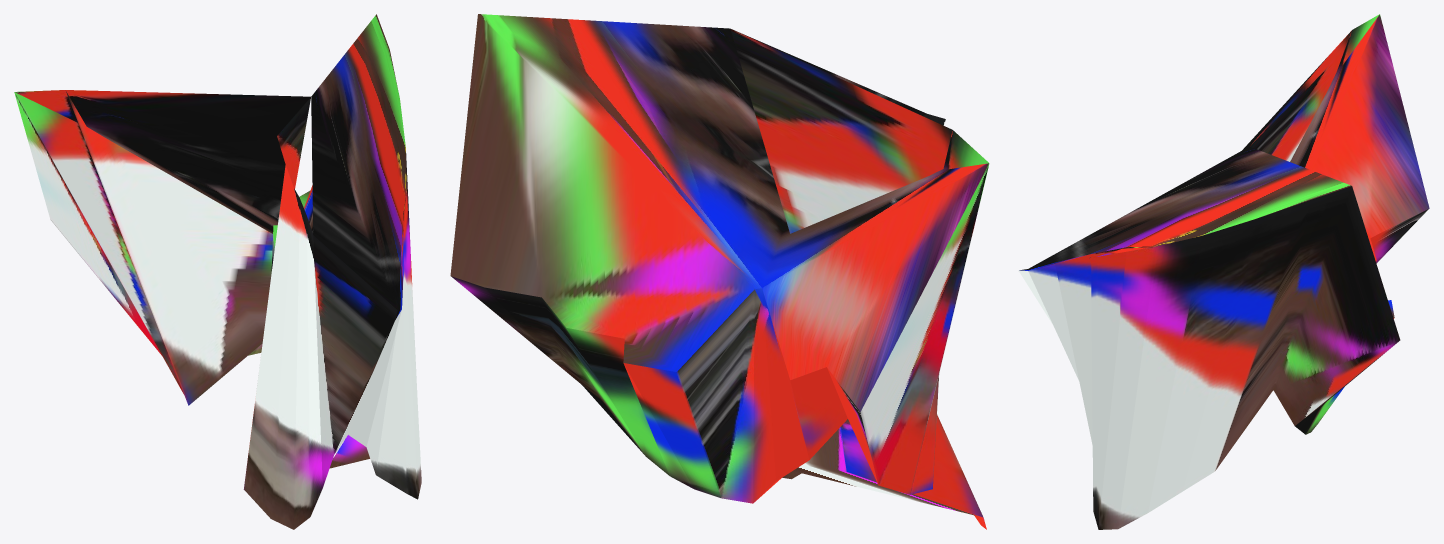
The model's file is otherneg3.glb.
The picture shows the model from 3 angles, left to right: view 1: azimuth 30°, elevation 25°; view 2: azimuth 150°, elevation 25°; view 3: azimuth 270°, elevation 25°; orthographic projection. The views are drawn at different scales.
Visible parts, largest first — view 1: Cylinder; view 2: Cylinder; view 3: Cylinder.
Boxes of the visible parts, <box> form: Cylinder: <box>14,14,421,529</box>; Cylinder: <box>450,14,989,529</box>; Cylinder: <box>1018,14,1429,529</box>.
Bounding box in the file's own units: 18.74 × 19.27 × 18.64.
1 material, 1 textured.
